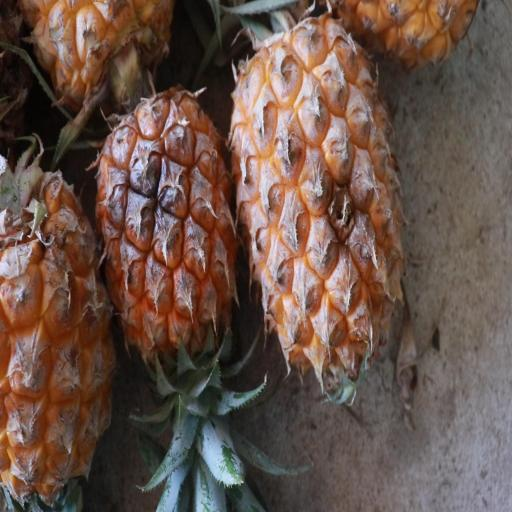Pineapple - v8 v1: (222, 0, 414, 375), (89, 80, 241, 385), (1, 154, 96, 512), (3, 492, 6, 497)
